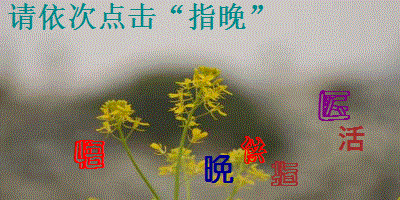text: (316, 88, 352, 122), (73, 138, 106, 171), (202, 154, 235, 185), (239, 135, 268, 165), (269, 161, 301, 187), (337, 125, 366, 152)
